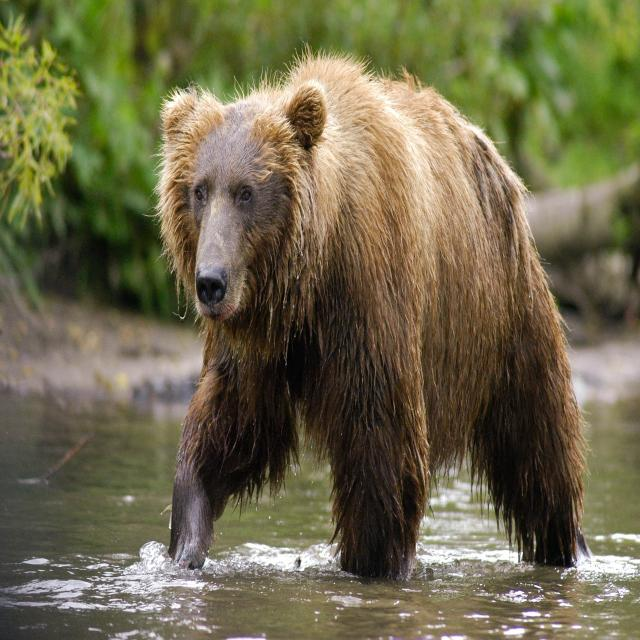Bear: (156, 51, 591, 584)
